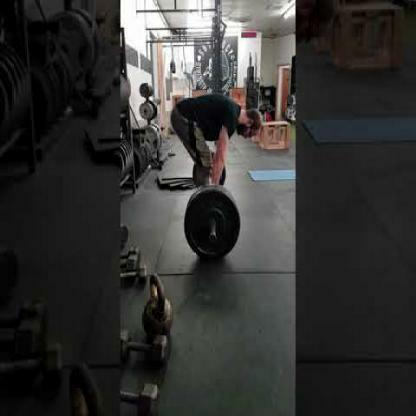Barbell: (210, 231, 219, 244)
